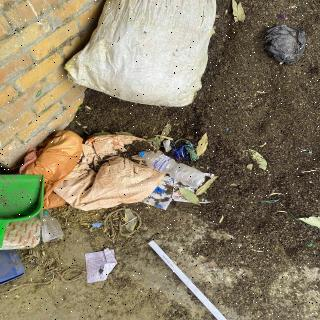Plastic-bottle: (138, 150, 208, 191), (39, 209, 66, 243)
